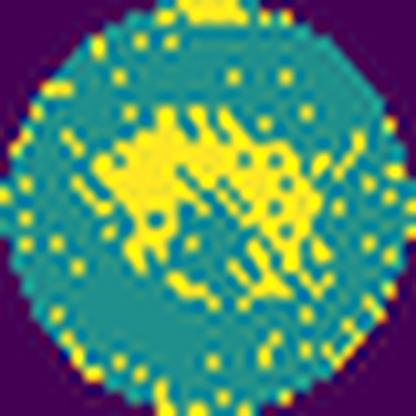Donut: (85, 94, 343, 315)
